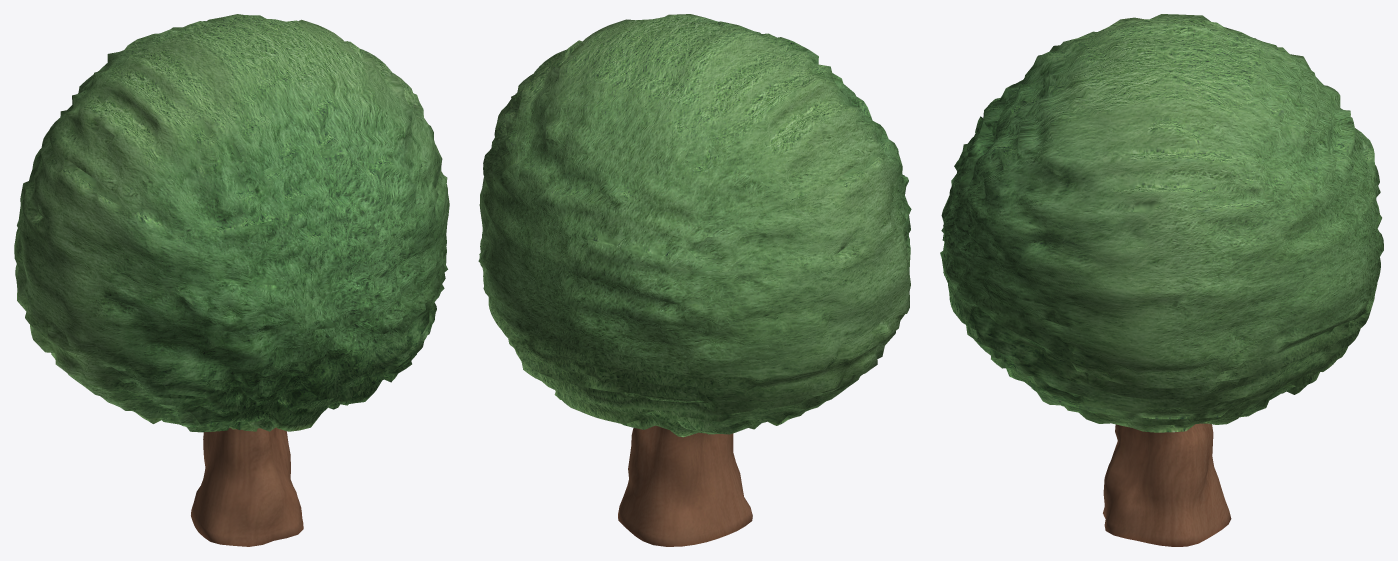
The model's file is stylized_tree_3d_model.glb.
3 renders of one model, left to right at view 1: azimuth 30°, elevation 25°; view 2: azimuth 150°, elevation 25°; view 3: azimuth 270°, elevation 25°, orthographic.
Visible parts, largest first — view 1: tripo_7a7a626a_87dc_4457_9e87_917e6a86a8d3; view 2: tripo_7a7a626a_87dc_4457_9e87_917e6a86a8d3; view 3: tripo_7a7a626a_87dc_4457_9e87_917e6a86a8d3.
Boxes of the visible parts, x1=… form: tripo_7a7a626a_87dc_4457_9e87_917e6a86a8d3: x1=14, y1=14, x2=449, y2=546; tripo_7a7a626a_87dc_4457_9e87_917e6a86a8d3: x1=478, y1=14, x2=911, y2=546; tripo_7a7a626a_87dc_4457_9e87_917e6a86a8d3: x1=940, y1=14, x2=1383, y2=546.
Size of the model in its own units: 0.8237 by 0.9995 by 0.8325.
1 material, 1 textured.
